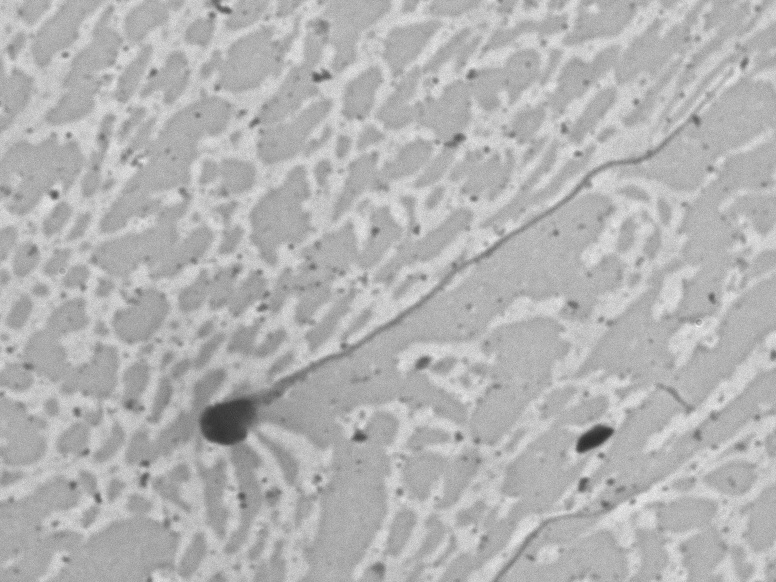Abnormal: (192, 52, 750, 458)
